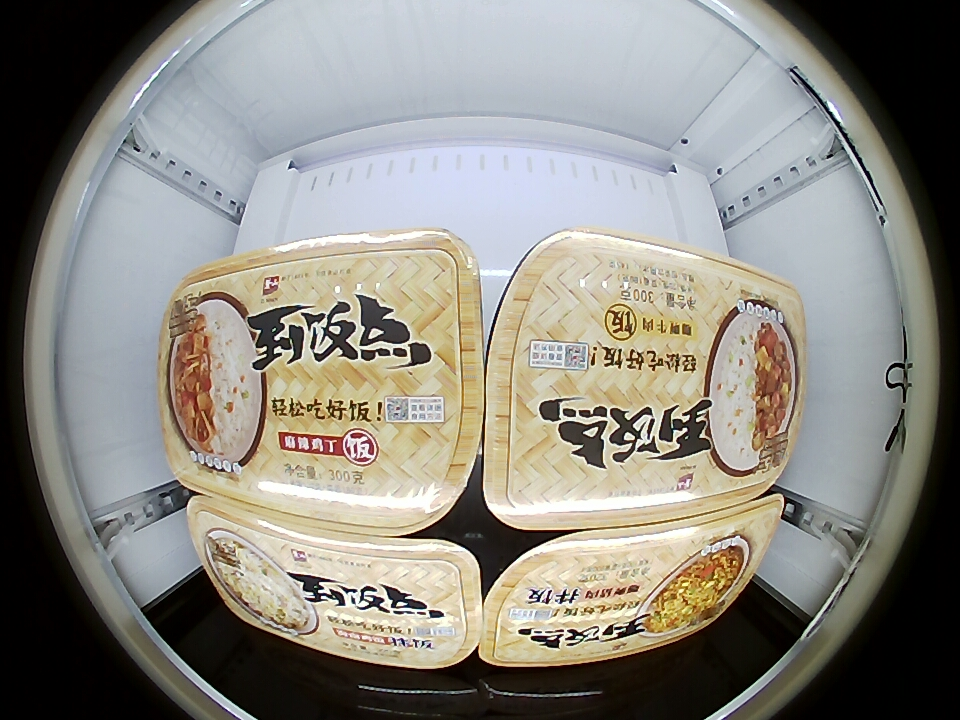daofandian1: (186, 496, 483, 669)
daofandian2: (479, 230, 809, 529)
daofandian3: (478, 500, 783, 667)
daofandian4: (154, 233, 485, 534)
